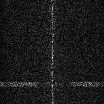wifi: (1, 81, 104, 86)
